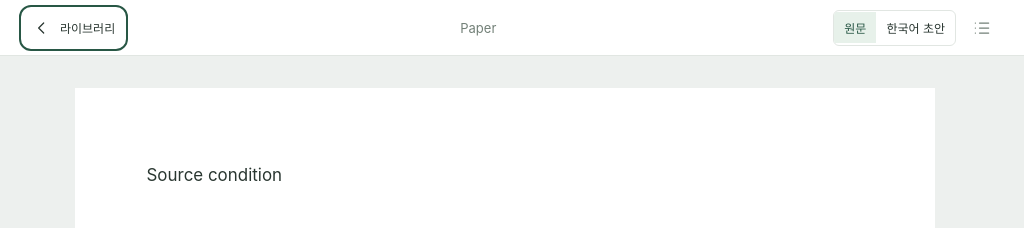
ignores a late translation response after source is selected
Click the button "한국어 초안".
click(916, 28)  # box [876,12,955,43]
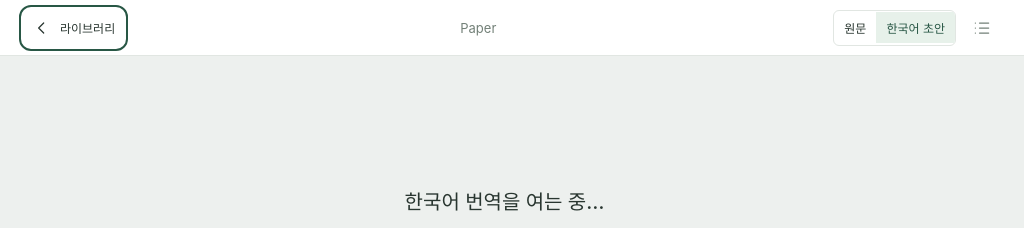
Click the button "원문".
click(855, 28)  # box [834,12,876,43]
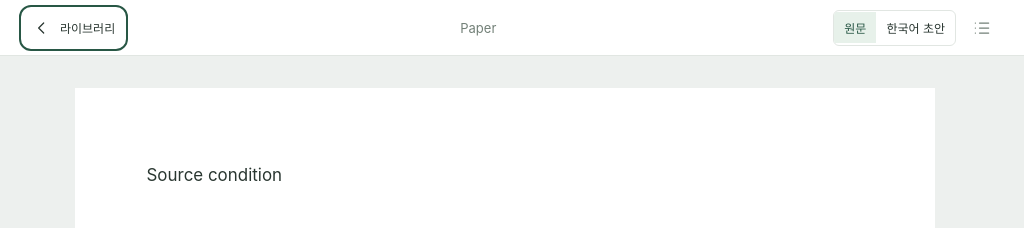
Now the text "Source condition" is shown, box [146,165,282,185]
